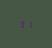nine: (19, 19, 24, 27)
one: (25, 19, 30, 28)
